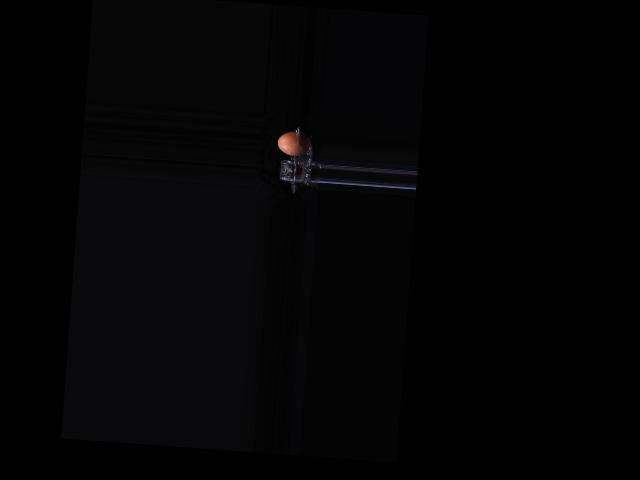egg: (277, 130, 310, 156)
